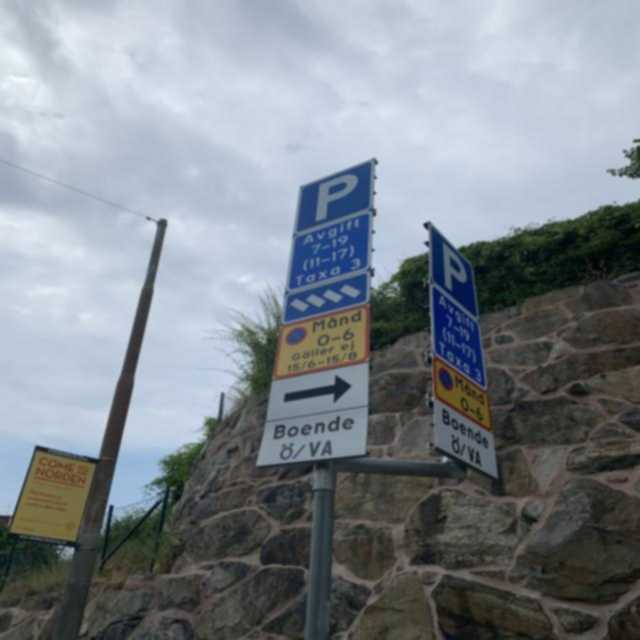P-skylt: (286, 155, 379, 235)
